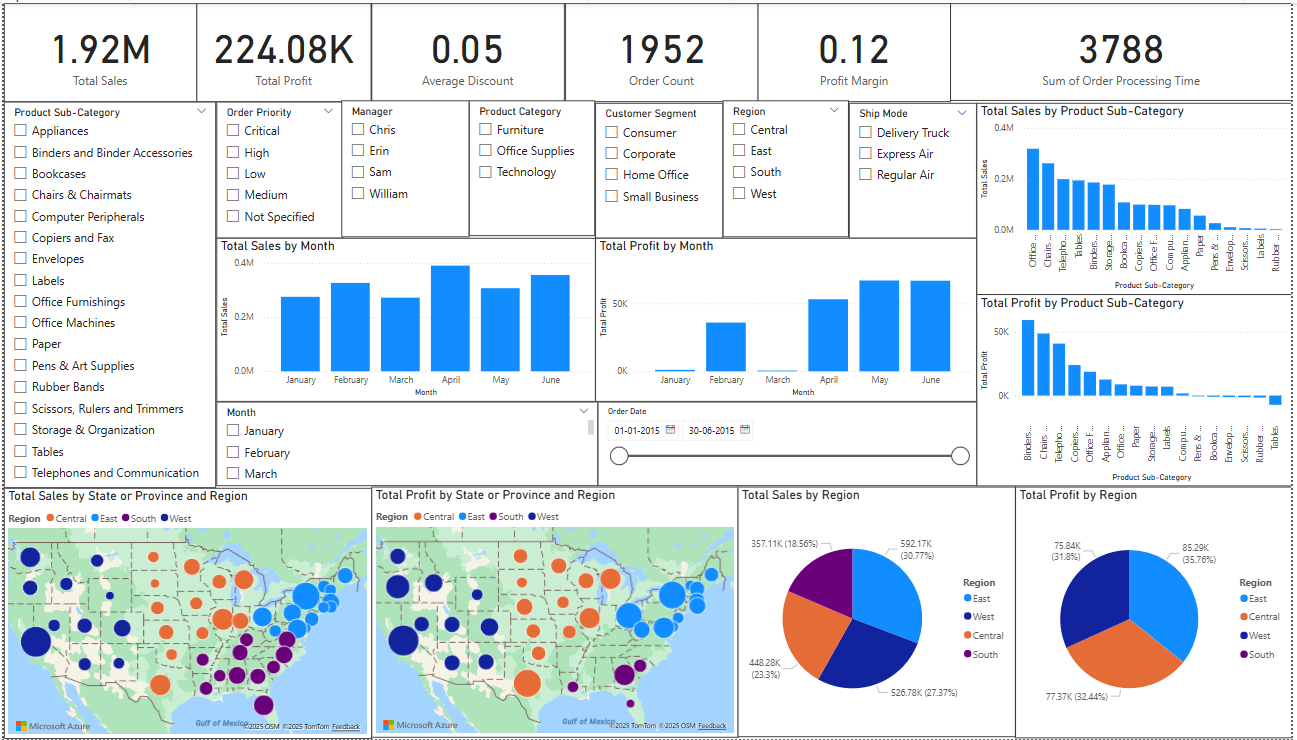

This screenshot's page, from the dashboard's own definition file:
{"tool":"powerbi","page":{"name":"Super Store Sales Performance","canvas":[1750,1000],"ordinal":0},"visuals":[{"type":"card","fields":{"Values":["Returns.Total Sales"]},"box":[0,0,262.2,134.4],"z":0},{"type":"card","fields":{"Values":["Returns.Total Profit"]},"box":[262.2,0,237.6,134.4],"z":1000},{"type":"card","fields":{"Values":["Returns.Average Discount"]},"box":[499.8,0,262.2,134.4],"z":2000},{"type":"card","fields":{"Values":["Returns.Order Count"]},"box":[761.9,0,262.2,134.4],"z":3000},{"type":"card","fields":{"Values":["Returns.Profit Margin"]},"box":[1024.1,0,262.2,134.4],"z":4000},{"type":"slicer","fields":{"Values":["SuperStoreUS-2015(Orders).Order Priority"]},"box":[288,134.1,171.6,185.4],"z":5000},{"type":"slicer","fields":{"Values":["SuperStoreUS-2015(Orders).Product Category"]},"box":[631.9,133.2,171.2,183.9],"z":6000},{"type":"slicer","fields":{"Values":["SuperStoreUS-2015(Orders).Product Sub-Category"]},"box":[0,134.1,288,524.7],"z":7000},{"type":"slicer","fields":{"Values":["SuperStoreUS-2015(Orders).Region"]},"box":[976.4,133.2,171.2,186],"z":8000},{"type":"slicer","fields":{"Values":["Users.Manager"]},"box":[458.6,133.2,173.3,186],"z":9000},{"type":"slicer","fields":{"Values":["SuperStoreUS-2015(Orders).Customer Segment"]},"box":[803.1,135.3,173.3,183.9],"z":10000},{"type":"slicer","fields":{"Values":["SuperStoreUS-2015(Orders).Ship Mode"]},"box":[1147.6,135.3,173.3,183.9],"z":11000},{"type":"clusteredColumnChart","fields":{"Category":["SuperStoreUS-2015(Orders).Order Date.Variation.Date Hierarchy.Month","SuperStoreUS-2015(Orders).Order Date.Variation.Date Hierarchy.Day"],"Y":["Returns.Total Sales"]},"box":[288,319.4,515,222.3],"z":12000},{"type":"clusteredColumnChart","fields":{"Category":["SuperStoreUS-2015(Orders).Order Date.Variation.Date Hierarchy.Month","SuperStoreUS-2015(Orders).Order Date.Variation.Date Hierarchy.Day"],"Y":["Returns.Total Profit"]},"box":[803.1,319.4,518.2,222.3],"z":13000},{"type":"clusteredColumnChart","fields":{"Category":["SuperStoreUS-2015(Orders).Product Sub-Category"],"Y":["Returns.Total Sales"]},"box":[1320.7,136,429.3,260.5],"z":14000},{"type":"clusteredColumnChart","fields":{"Category":["SuperStoreUS-2015(Orders).Product Sub-Category"],"Y":["Returns.Total Profit"]},"box":[1320.7,396.5,429.3,260.5],"z":15000},{"type":"azureMap","fields":{"Size":["Returns.Total Sales"],"Series":["SuperStoreUS-2015(Orders).Region"],"Category":["SuperStoreUS-2015(Orders).State or Province"]},"box":[0,658.7,499.8,340.8],"z":16000},{"type":"card","fields":{"Values":["SuperStoreUS-2015(Orders).Order Processing Time"]},"box":[1285,0,465,133.2],"z":17000},{"type":"azureMap","fields":{"Series":["SuperStoreUS-2015(Orders).Region"],"Category":["SuperStoreUS-2015(Orders).State or Province"],"Size":["Returns.Total Profit"]},"box":[499.8,657.1,498.1,340.8],"z":18000},{"type":"pieChart","fields":{"Category":["SuperStoreUS-2015(Orders).Region"],"Y":["Returns.Total Sales"]},"box":[997.2,657.5,377.3,339.7],"z":19000},{"type":"pieChart","fields":{"Category":["SuperStoreUS-2015(Orders).Region"],"Y":["Returns.Total Profit"]},"box":[1374.5,657.5,375.7,341.3],"z":20000},{"type":"slicer","fields":{"Values":["SuperStoreUS-2015(Orders).Order Date.Variation.Date Hierarchy.Month"]},"box":[288,542.4,518.8,114.4],"z":21000},{"type":"slicer","fields":{"Values":["SuperStoreUS-2015(Orders).Order Date"]},"box":[806.8,542.4,514.8,114.4],"z":22000}]}

Visuals, with their boxes in screenshot pixels (x1, y1, x2, y2), scaled from the page's 1750x1000 canvas onto the 1297x740 screenshot:
card - Returns.Total Sales: <box>0,0,194,99</box>
card - Returns.Total Profit: <box>194,0,370,99</box>
card - Returns.Average Discount: <box>370,0,565,99</box>
card - Returns.Order Count: <box>565,0,759,99</box>
card - Returns.Profit Margin: <box>759,0,953,99</box>
slicer - SuperStoreUS-2015(Orders).Order Priority: <box>213,99,341,236</box>
slicer - SuperStoreUS-2015(Orders).Product Category: <box>468,99,595,235</box>
slicer - SuperStoreUS-2015(Orders).Product Sub-Category: <box>0,99,213,488</box>
slicer - SuperStoreUS-2015(Orders).Region: <box>724,99,851,236</box>
slicer - Users.Manager: <box>340,99,468,236</box>
slicer - SuperStoreUS-2015(Orders).Customer Segment: <box>595,100,724,236</box>
slicer - SuperStoreUS-2015(Orders).Ship Mode: <box>851,100,979,236</box>
clusteredColumnChart - SuperStoreUS-2015(Orders).Order Date.Variation.Date Hierarchy.Month x SuperStoreUS-2015(Orders).Order Date.Variation.Date Hierarchy.Day: <box>213,236,595,401</box>
clusteredColumnChart - SuperStoreUS-2015(Orders).Order Date.Variation.Date Hierarchy.Month x SuperStoreUS-2015(Orders).Order Date.Variation.Date Hierarchy.Day: <box>595,236,979,401</box>
clusteredColumnChart - SuperStoreUS-2015(Orders).Product Sub-Category x Returns.Total Sales: <box>979,101,1296,293</box>
clusteredColumnChart - SuperStoreUS-2015(Orders).Product Sub-Category x Returns.Total Profit: <box>979,293,1296,486</box>
azureMap - Returns.Total Sales x SuperStoreUS-2015(Orders).Region: <box>0,487,370,739</box>
card - SuperStoreUS-2015(Orders).Order Processing Time: <box>952,0,1296,99</box>
azureMap - SuperStoreUS-2015(Orders).Region x SuperStoreUS-2015(Orders).State or Province: <box>370,486,740,738</box>
pieChart - SuperStoreUS-2015(Orders).Region x Returns.Total Sales: <box>739,487,1019,738</box>
pieChart - SuperStoreUS-2015(Orders).Region x Returns.Total Profit: <box>1019,487,1296,739</box>
slicer - SuperStoreUS-2015(Orders).Order Date.Variation.Date Hierarchy.Month: <box>213,401,598,486</box>
slicer - SuperStoreUS-2015(Orders).Order Date: <box>598,401,979,486</box>
